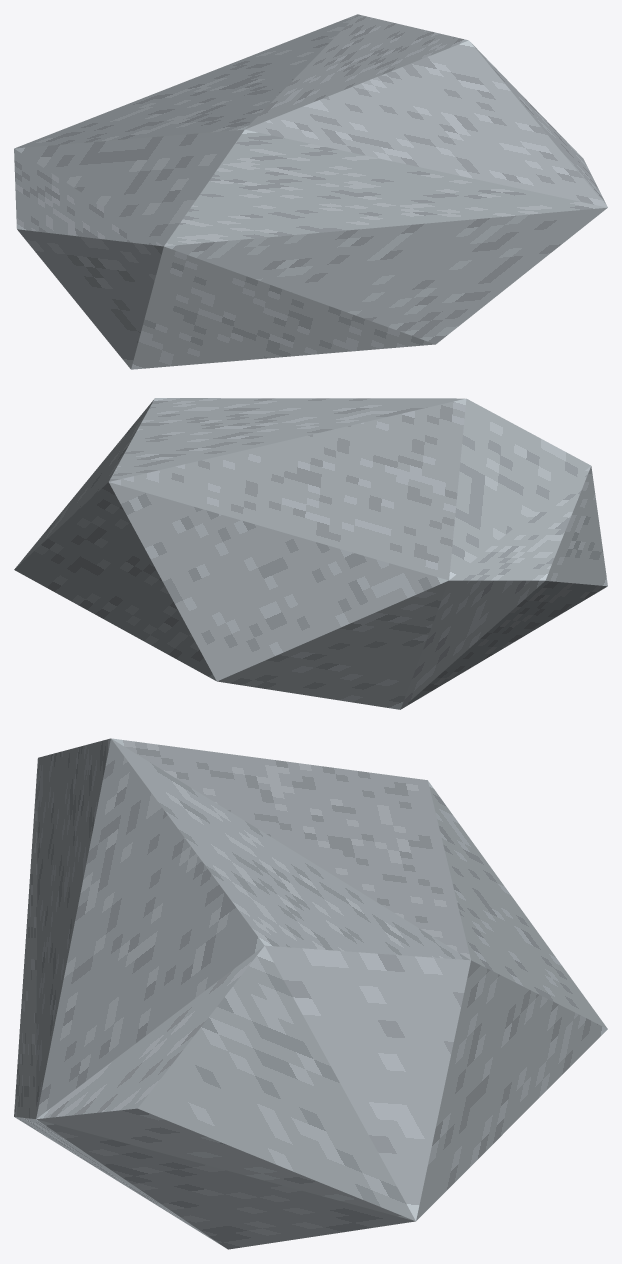
File: ch_steel_chunk.glb
The picture shows the model from 3 angles, top to bottom: view 1: azimuth 30°, elevation 25°; view 2: azimuth 150°, elevation 25°; view 3: azimuth 270°, elevation 25°; orthographic projection. The views are drawn at different scales.
Parts seen in each view (by area): view 1: block_irregular metal; view 2: block_irregular metal; view 3: block_irregular metal.
Boxes of the visible parts, x1,y1,x2,y2 form: block_irregular metal: (14, 14, 607, 369); block_irregular metal: (14, 398, 607, 709); block_irregular metal: (14, 738, 607, 1249).
Size of the model in its own units: 0.0716 by 0.0335 by 0.0539.
Materials: 1 (1 with a texture image).
